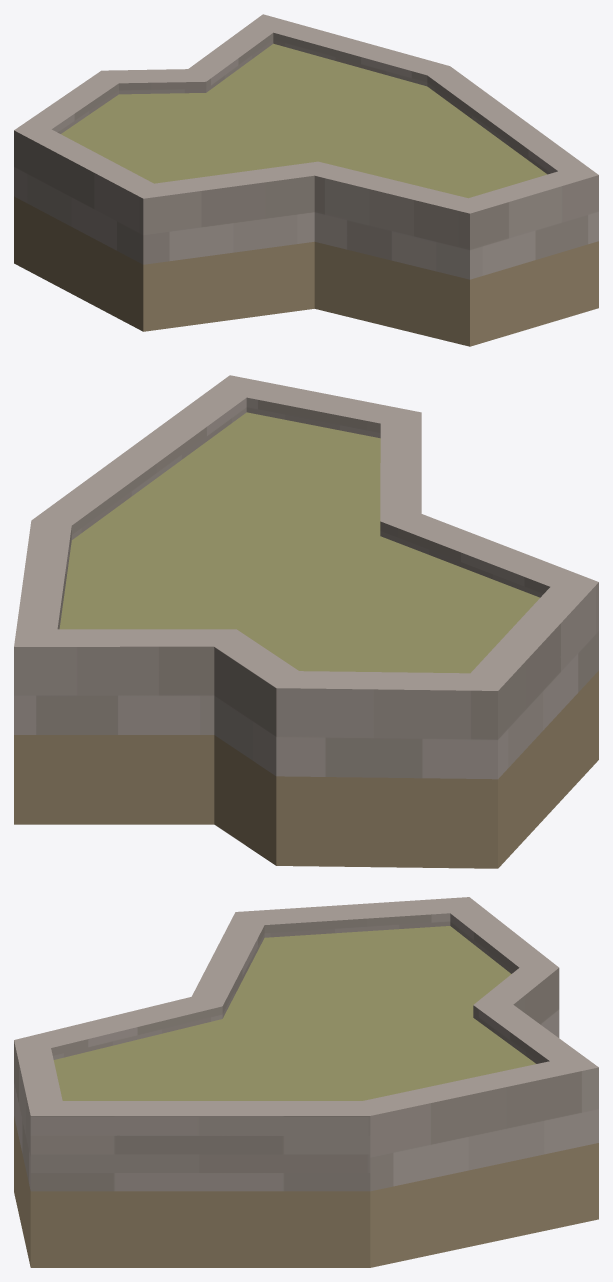
File: DarkStoneFloorSmallFloatingIsland1.fbx
3 views of the same model, one above another, from view 1: azimuth 30°, elevation 25°; view 2: azimuth 150°, elevation 25°; view 3: azimuth 270°, elevation 25° (orthographic). The views are drawn at different scales.
Visible parts, largest first — view 1: DarkStoneFloorSmallFloatingIsland2, Grass; view 2: DarkStoneFloorSmallFloatingIsland2, Grass; view 3: DarkStoneFloorSmallFloatingIsland2, Grass.
Boxes of the visible parts, left/top/right/bottom form: DarkStoneFloorSmallFloatingIsland2: left=14, top=14, right=598, bottom=346; Grass: left=61, top=43, right=547, bottom=198; DarkStoneFloorSmallFloatingIsland2: left=14, top=375, right=598, bottom=868; Grass: left=59, top=412, right=539, bottom=673; DarkStoneFloorSmallFloatingIsland2: left=14, top=897, right=598, bottom=1267; Grass: left=53, top=926, right=535, bottom=1100.
Size of the model in its own units: 646 by 209 by 729.
3 materials, 1 textured.
